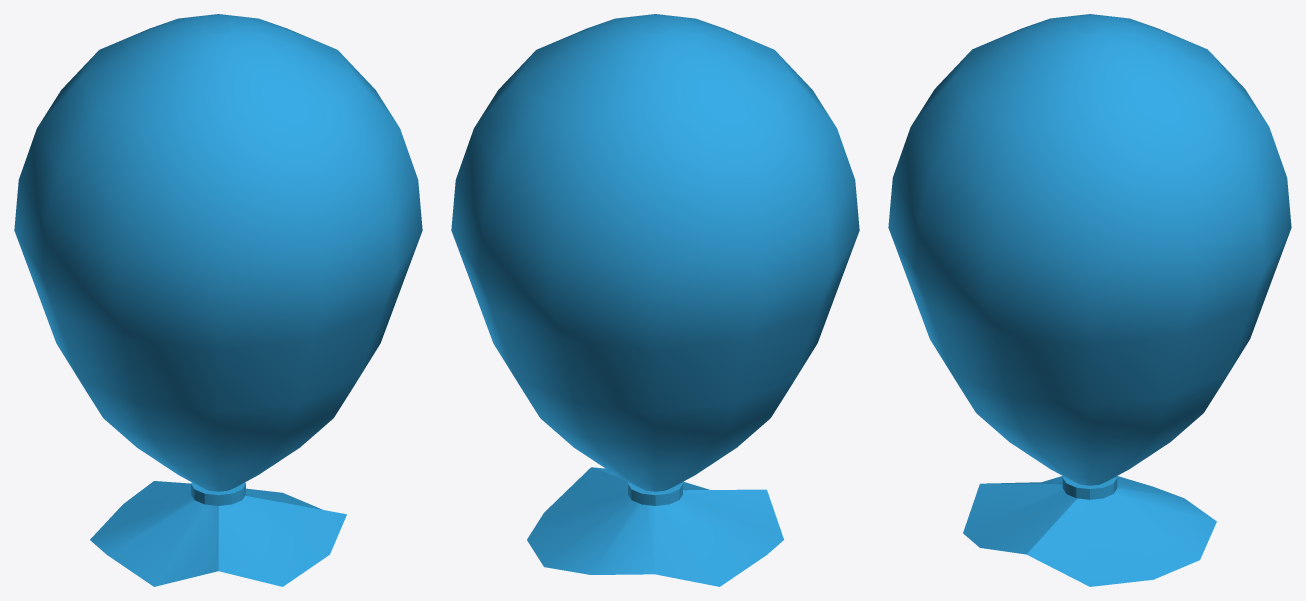
Rendered from bullet of rubber bomb.fbx.
3 views of the same model, side by side, from view 1: azimuth 30°, elevation 25°; view 2: azimuth 150°, elevation 25°; view 3: azimuth 270°, elevation 25° (orthographic).
Parts seen in each view (by area): view 1: Cylinder.015; view 2: Cylinder.015; view 3: Cylinder.015.
Part boxes in pixels (box(x1,y1,x2,y2)): Cylinder.015: box(14, 14, 422, 586); Cylinder.015: box(451, 14, 859, 586); Cylinder.015: box(888, 14, 1291, 586).
Size of the model in its own units: 76.29 by 105 by 76.29.
1 material, 1 textured.
